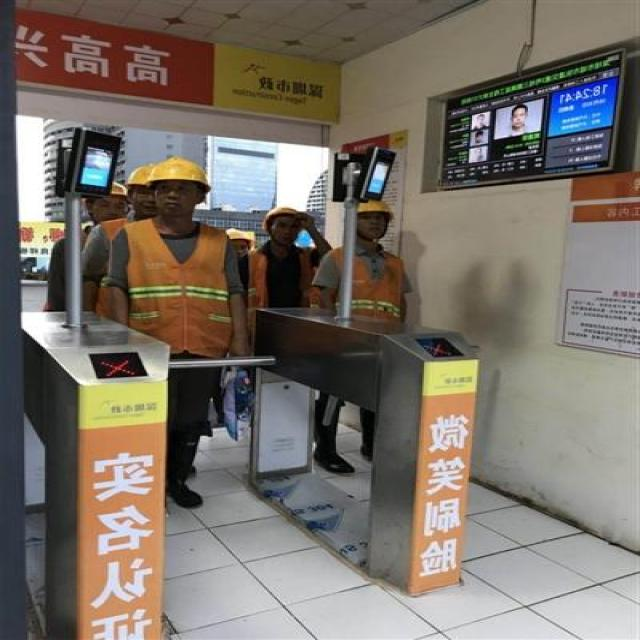Reflective-Jacket: (115, 222, 238, 358), (326, 248, 409, 332)
Safety-Helmet: (143, 155, 215, 191), (355, 198, 395, 216)
